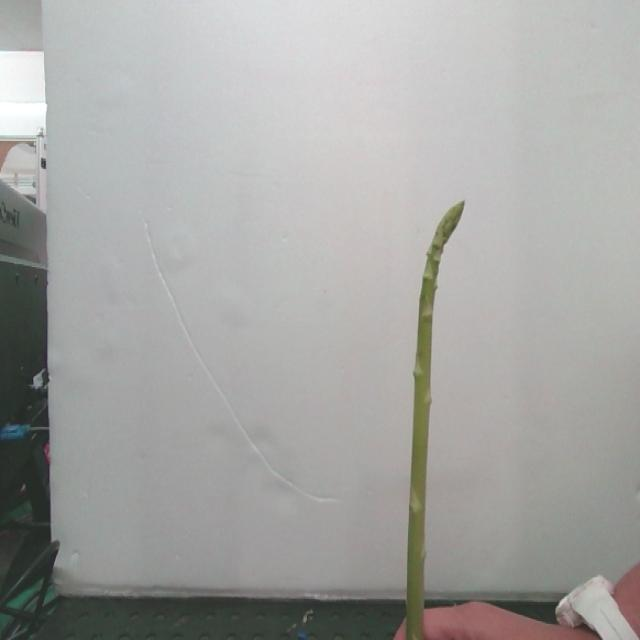aspargus: (401, 202, 462, 640)
